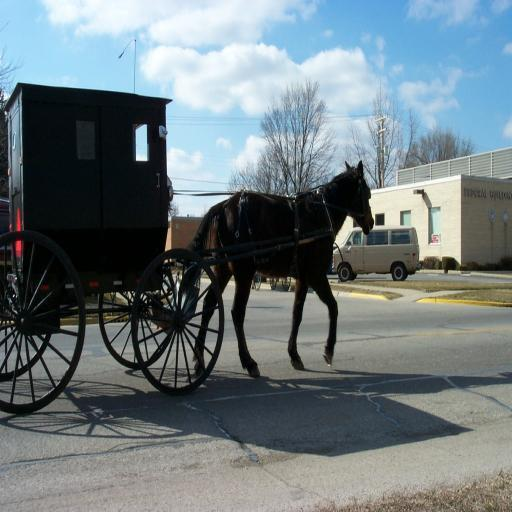horse: (186, 156, 376, 380)
